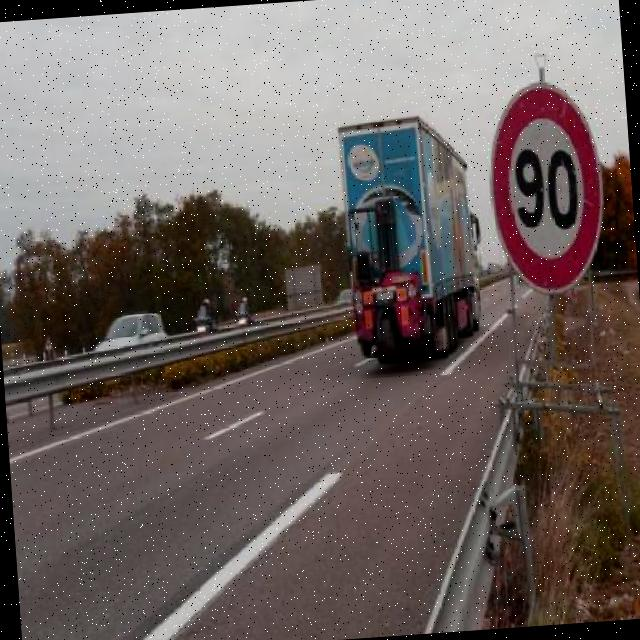Ograniczenie predkosci do 90: (484, 83, 604, 295)
